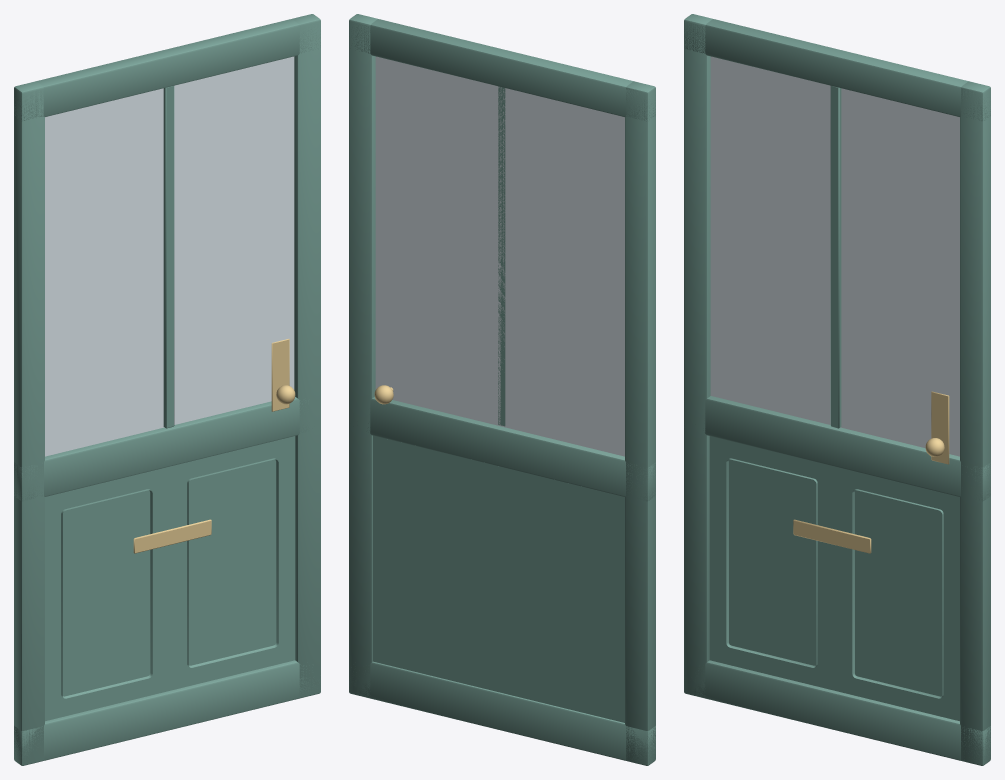
Rendered from shop_door_leaf.glb.
3 renders of one model, left to right at view 1: azimuth 30°, elevation 25°; view 2: azimuth 150°, elevation 25°; view 3: azimuth 330°, elevation 25°, orthographic.
Visible parts, largest first — view 1: shop_door_leaf; view 2: shop_door_leaf; view 3: shop_door_leaf.
Boxes of the visible parts, <box> form: shop_door_leaf: <box>14,14,320,765</box>; shop_door_leaf: <box>349,14,655,765</box>; shop_door_leaf: <box>684,14,990,765</box>.
Bounding box in the file's own units: 1 × 2.15 × 0.176.
